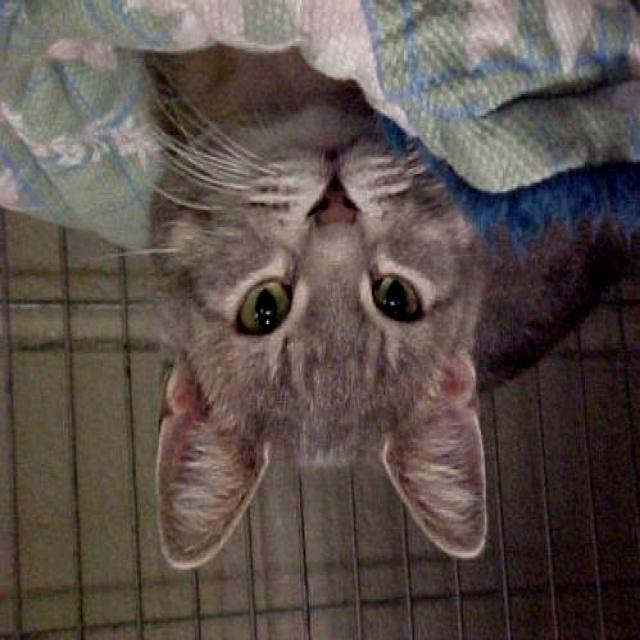Kucing: (103, 53, 543, 614)
